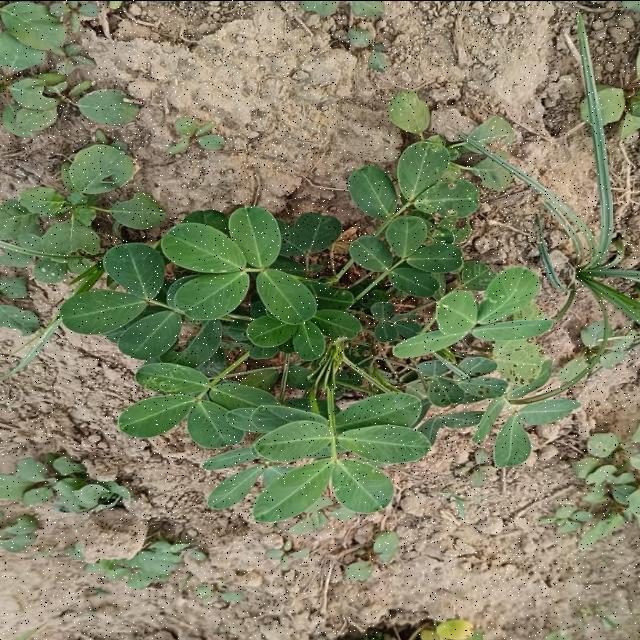plant: (12, 90, 588, 521)
